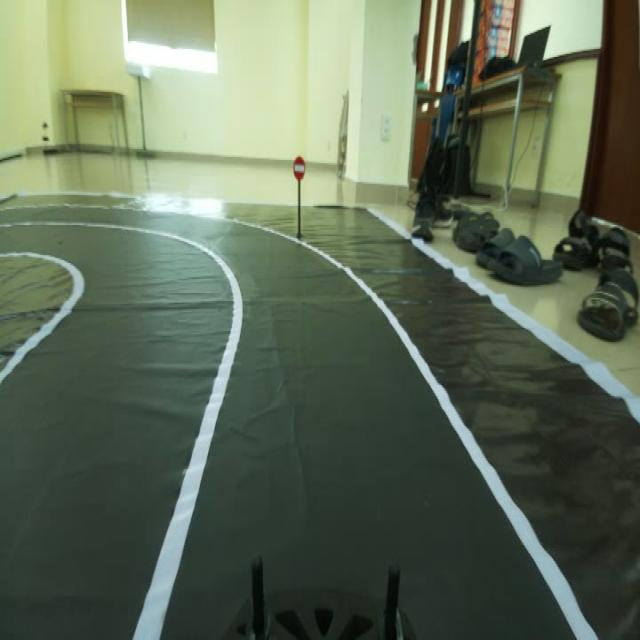no_entry: (288, 153, 309, 183)
